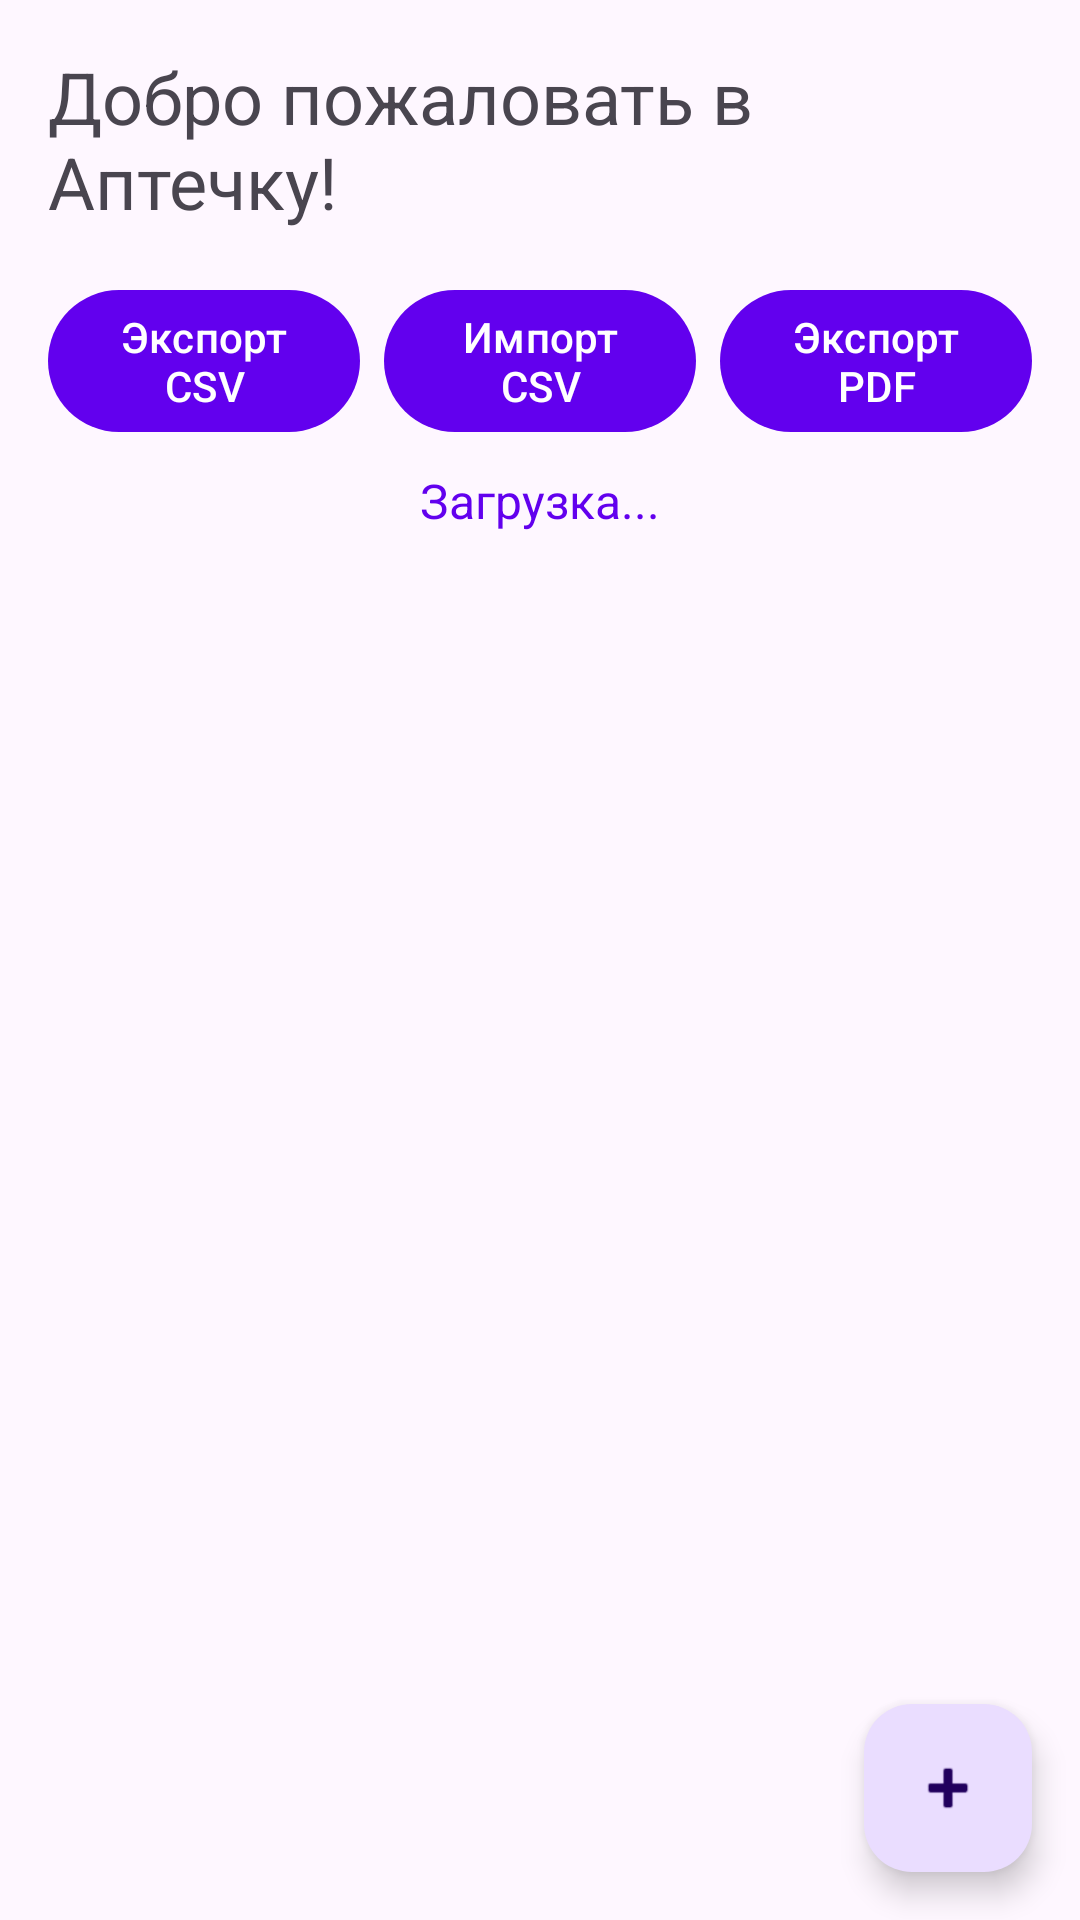

Icon click points for this 1080w x 1920h phone screenshot, format (x,y):
Добавить лекарство: (948,1788)
